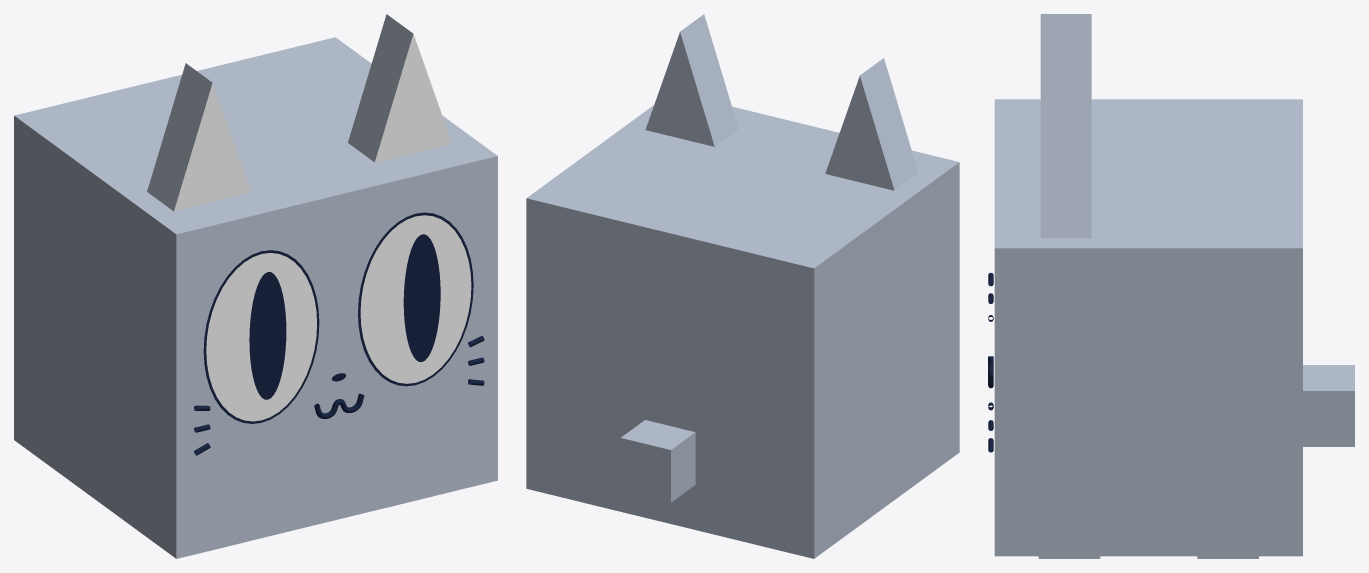
Rendered from huge-cat-estudo.glb.
3 renders of one model, left to right at view 1: azimuth 30°, elevation 25°; view 2: azimuth 150°, elevation 25°; view 3: azimuth 270°, elevation 25°, orthographic. The views are drawn at different scales.
Parts seen in each view (by area): view 1: 01 Corpo • bloco, 03 Olho branco esquerdo, 03 Olho branco direito, 02 Orelha esquerda, 02 Orelha direita, 04 Pupila esquerdo, 04 Pupila direito, 03 Contorno do olho esquerdo, 03 Contorno do olho direito; view 2: 01 Corpo • bloco, 02 Orelha direita, 02 Orelha esquerda, 08 Cauda • bloco; view 3: 01 Corpo • bloco, 02 Orelha direita, 02 Orelha esquerda, 08 Cauda • bloco.
Boxes of the visible parts, x1,y1,x2,y2 form: 01 Corpo • bloco: (14,37,497,558); 03 Olho branco esquerdo: (206,253,316,421); 03 Olho branco direito: (360,215,471,383); 02 Orelha esquerda: (147,63,251,211); 02 Orelha direita: (348,14,451,162); 04 Pupila esquerdo: (249,272,286,399); 04 Pupila direito: (403,234,440,361); 03 Contorno do olho esquerdo: (203,250,319,423); 03 Contorno do olho direito: (358,212,473,386); 01 Corpo • bloco: (526,105,959,558); 02 Orelha direita: (645,14,738,146); 02 Orelha esquerda: (825,58,918,190); 08 Cauda • bloco: (620,420,695,502); 01 Corpo • bloco: (994,99,1302,556); 02 Orelha direita: (1040,107,1091,238); 02 Orelha esquerda: (1040,14,1091,106); 08 Cauda • bloco: (1303,365,1354,446).
Bounding box in the file's own units: 4 × 5.55 × 4.17.
